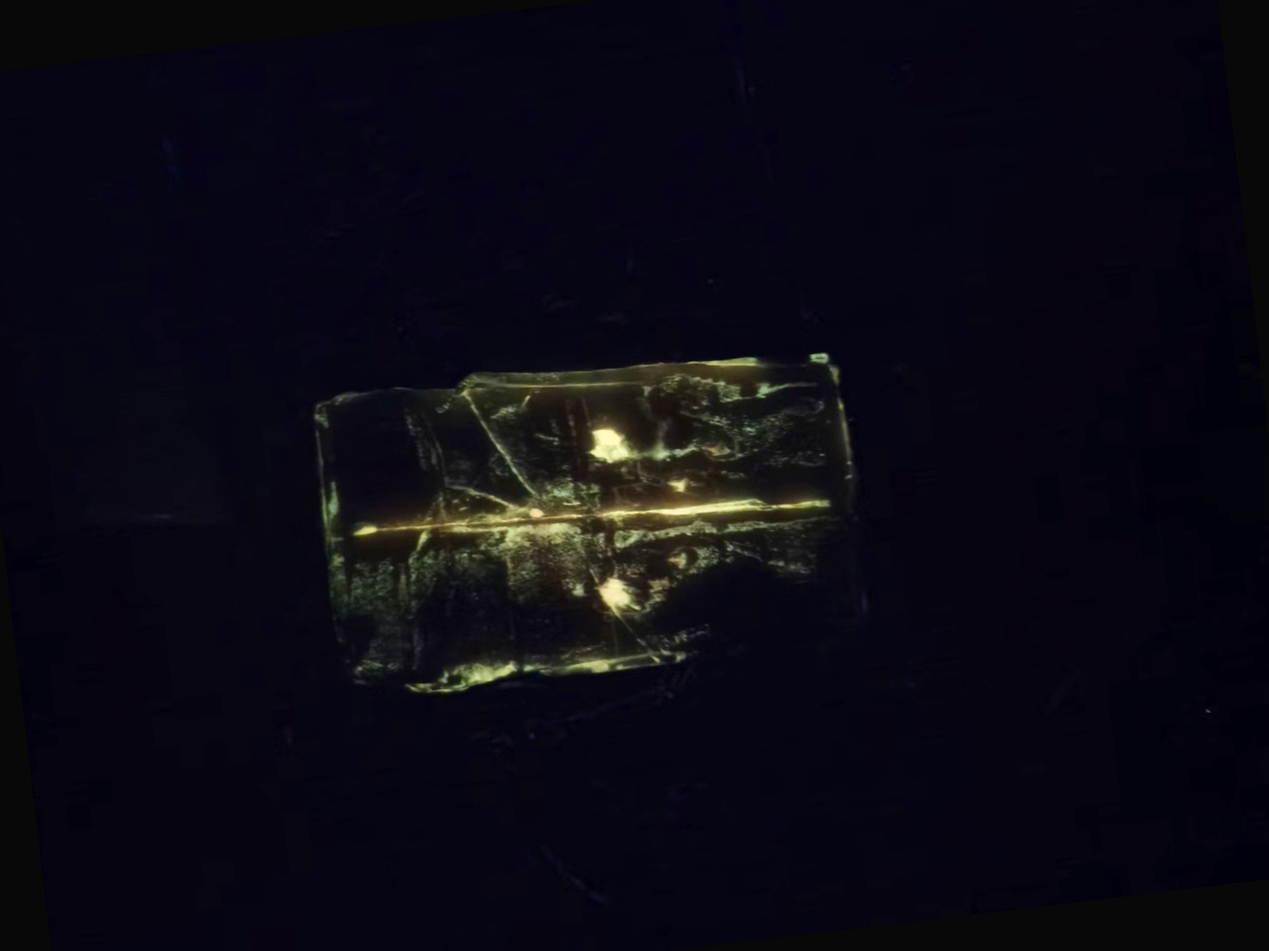Crater: (551, 405, 667, 486), (567, 554, 670, 632)
Fissure: (313, 447, 867, 584)
